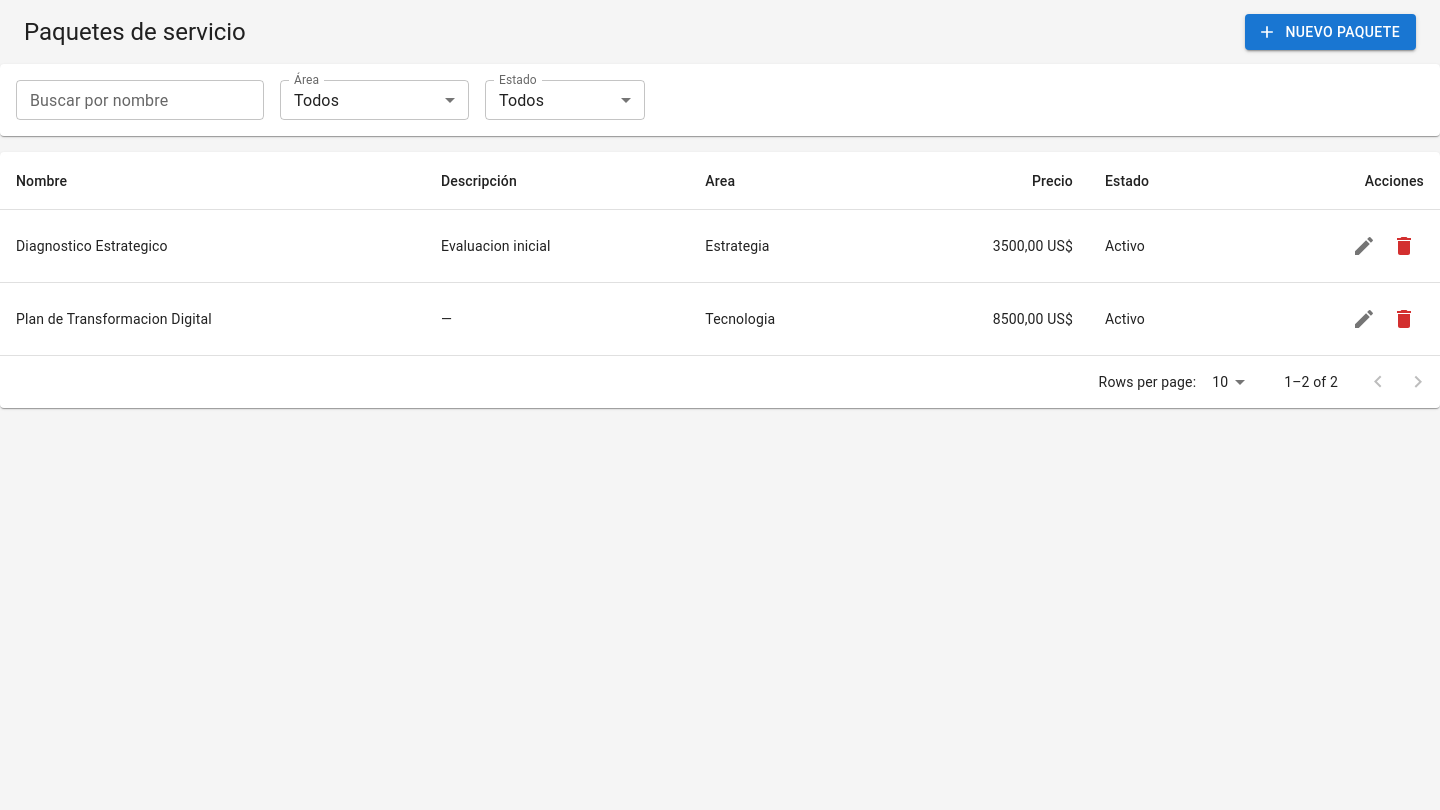
PaquetesPage › shows a success toast after deleting a paquete
The image size is (1440, 810).
Expected: the text "Diagnostico Estrategico" is shown, top-left (0, 210), bottom-right (425, 283)
Click the button named "Eliminar paquete Diagnostico Estrategico".
click(1404, 246)  # box top-left (1384, 226), bottom-right (1424, 266)
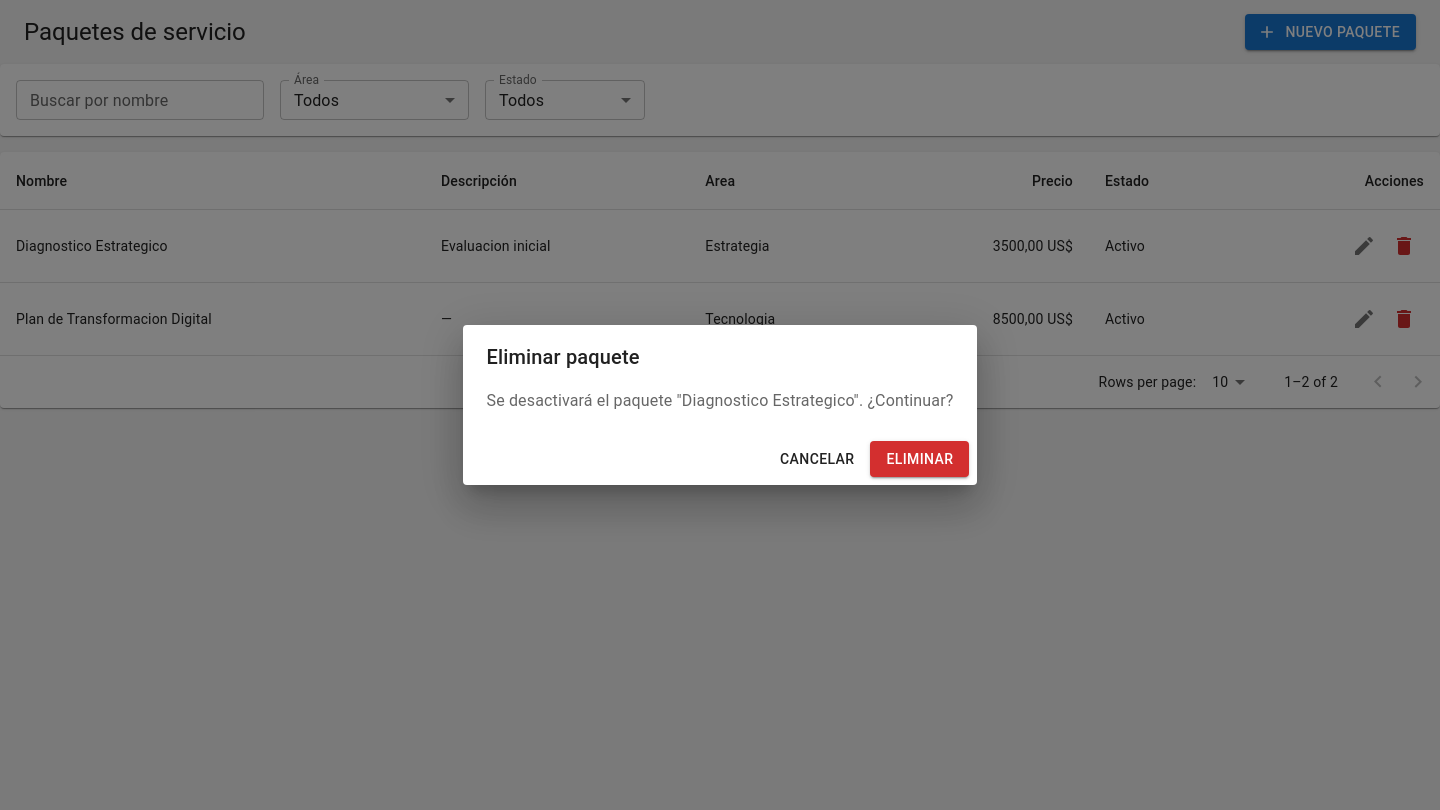
Click the button "Eliminar".
click(920, 459)  # box top-left (870, 441), bottom-right (970, 477)
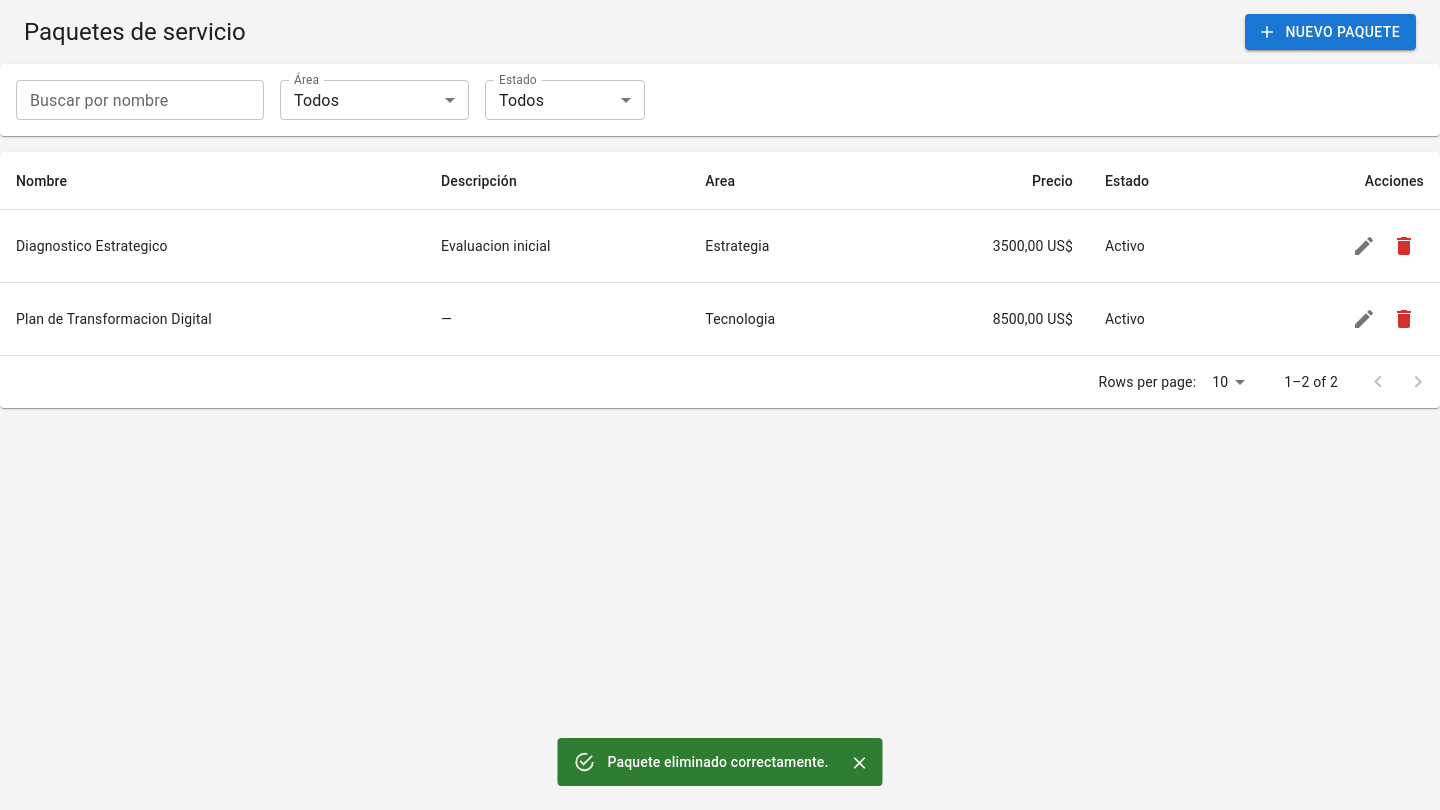
Expected: the text "Paquete eliminado correctamente." is shown, top-left (608, 754), bottom-right (828, 770)
